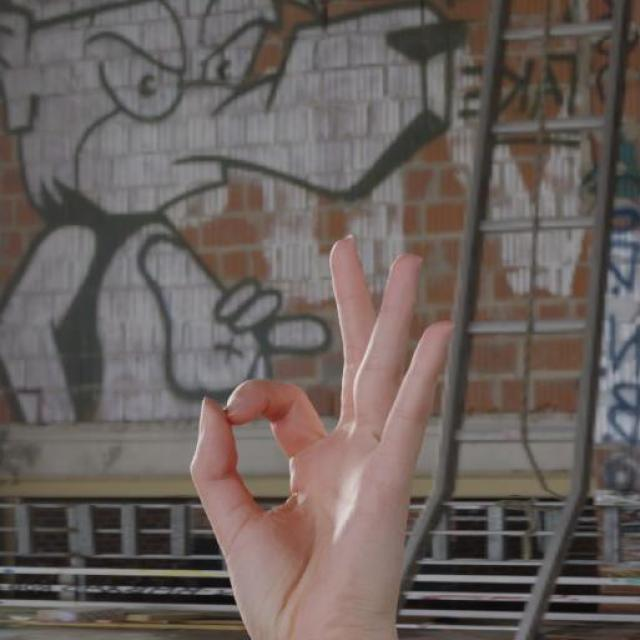F: (188, 231, 461, 640)
